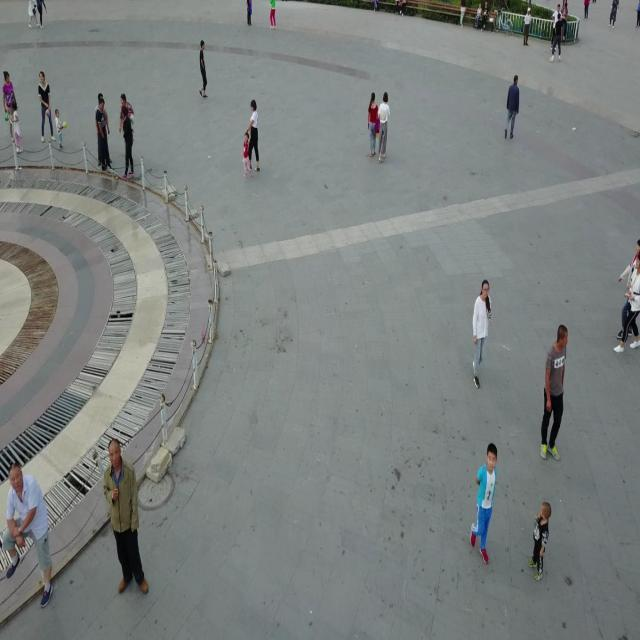person: (4, 464, 54, 604), (105, 438, 149, 596), (540, 323, 569, 462), (470, 442, 498, 566), (614, 249, 640, 354), (472, 280, 492, 388), (530, 502, 552, 582), (3, 68, 20, 152), (96, 100, 114, 172), (38, 69, 55, 143), (503, 74, 521, 142), (121, 106, 136, 178), (248, 98, 260, 174), (377, 91, 389, 164), (366, 90, 378, 158), (198, 39, 208, 99)
